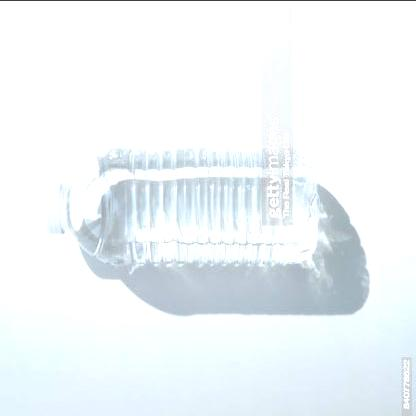bottle: (13, 117, 328, 281)
